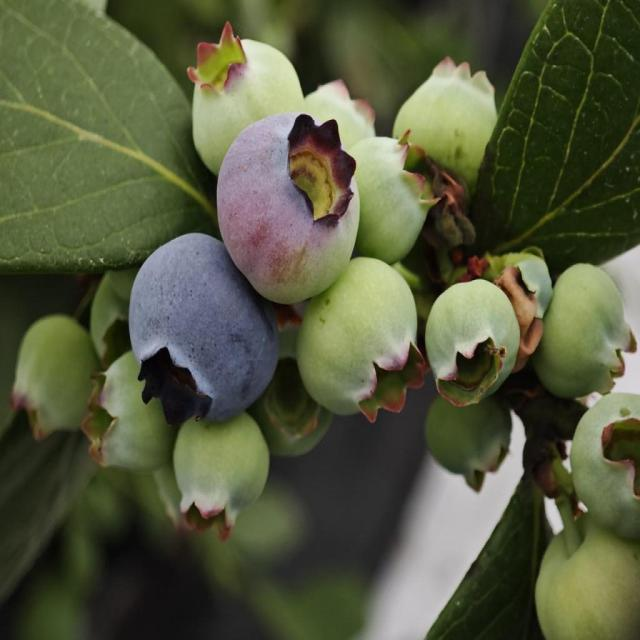RipeBlueBerry: (129, 233, 280, 419)
Semi-RipeBlueBerry: (218, 111, 358, 296)
UnripeBlueBerry: (302, 264, 417, 408), (426, 277, 518, 402), (395, 58, 494, 170)
